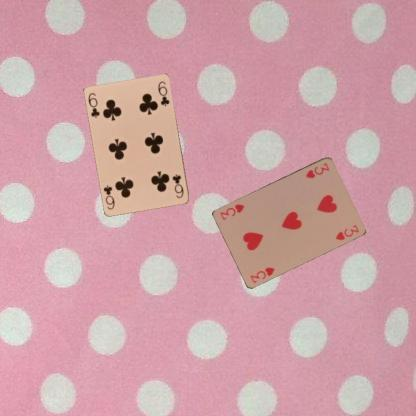3h: (247, 264, 276, 284), (303, 160, 330, 179)
6c: (86, 90, 101, 119), (170, 172, 185, 200)
